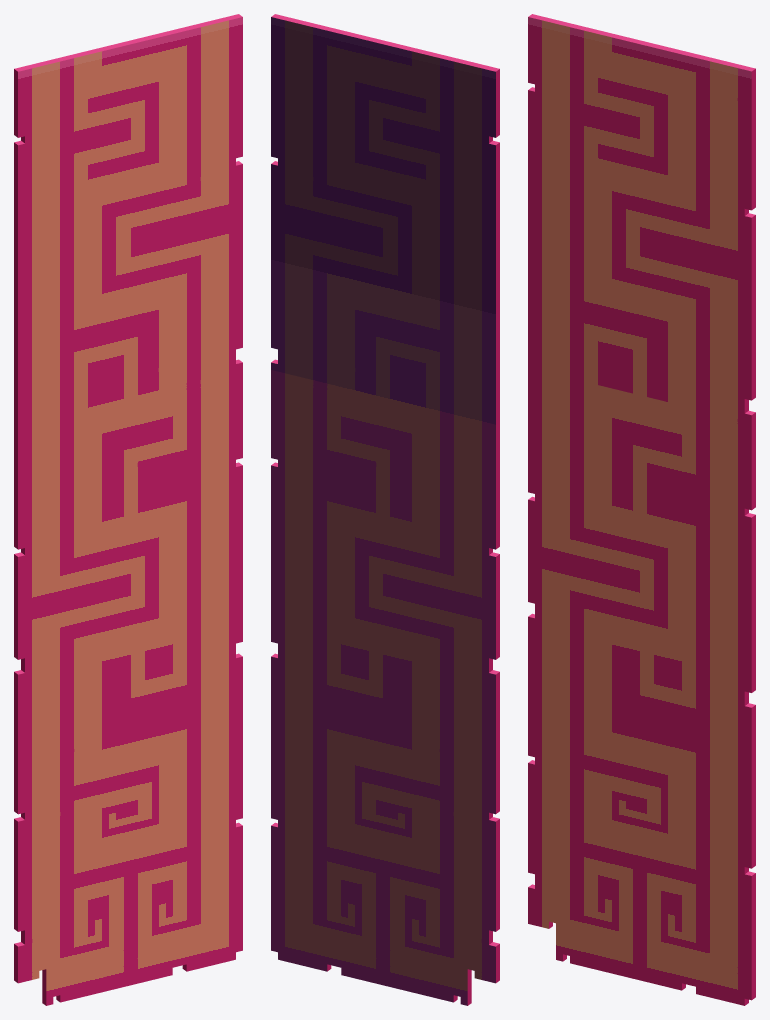
The model's file is pyramid_banner_aao.fezao.glb.
3 renders of one model, left to right at view 1: azimuth 30°, elevation 25°; view 2: azimuth 150°, elevation 25°; view 3: azimuth 330°, elevation 25°, orthographic.
Visible parts, largest first — view 1: PYRAMID_BANNER_AAO; view 2: PYRAMID_BANNER_AAO; view 3: PYRAMID_BANNER_AAO.
Part boxes in pixels (x1,y1,x2,y2): PYRAMID_BANNER_AAO: [14, 14, 242, 1005]; PYRAMID_BANNER_AAO: [271, 14, 499, 1005]; PYRAMID_BANNER_AAO: [528, 14, 755, 1005].
Size of the model in its own units: 2 by 8 by 0.0625.
Materials: 1 (1 with a texture image).
